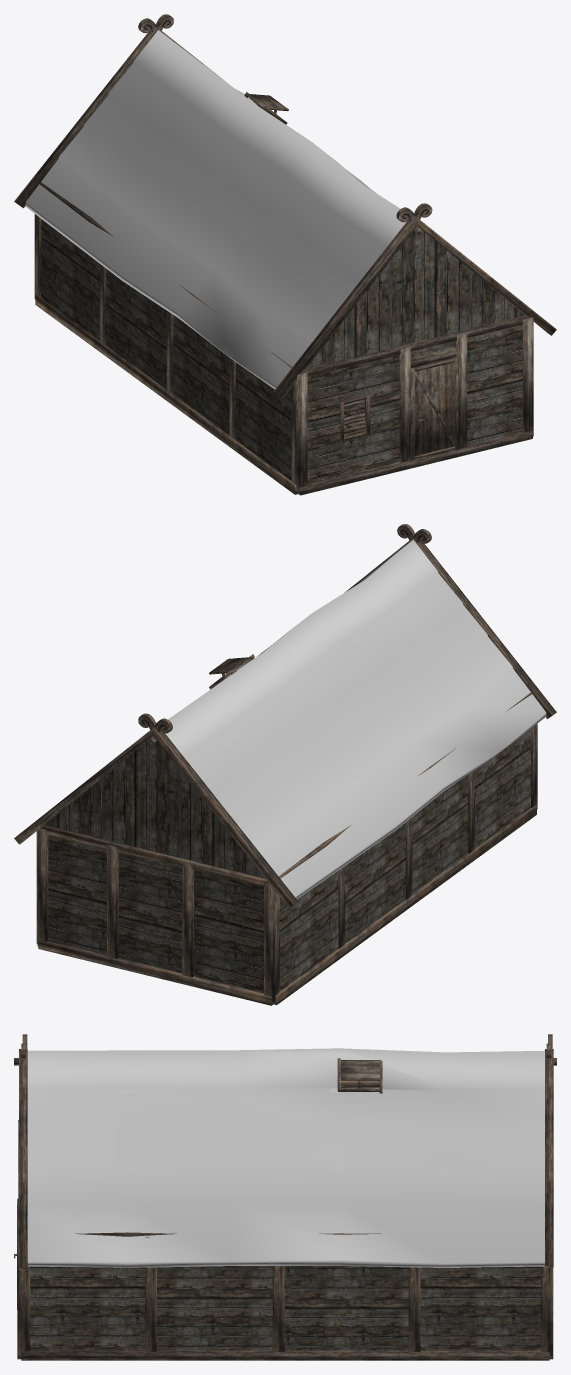
The model's file is house2b.fbx.
The picture shows the model from 3 angles, top to bottom: view 1: azimuth 30°, elevation 25°; view 2: azimuth 150°, elevation 25°; view 3: azimuth 270°, elevation 25°; orthographic projection.
Visible parts, largest first — view 1: roof1, wall, wood1, door, floor, details; view 2: roof1, wall, wood1, details; view 3: roof1, wall, wood1.
Part boxes in pixels (box(x1,y1,x2,y2)): roof1: box(25, 30, 406, 389); wall: box(41, 219, 524, 484); wood1: box(14, 14, 556, 495); door: box(411, 357, 458, 460); floor: box(344, 399, 364, 436); details: box(140, 16, 432, 222); roof1: box(165, 540, 546, 899); wall: box(44, 729, 530, 993); wood1: box(14, 524, 556, 1005); details: box(138, 526, 429, 733); roof1: box(27, 1048, 544, 1267); wall: box(30, 1266, 540, 1350); wood1: box(14, 1034, 556, 1360).
Size of the model in its own units: 208 by 183 by 344.
